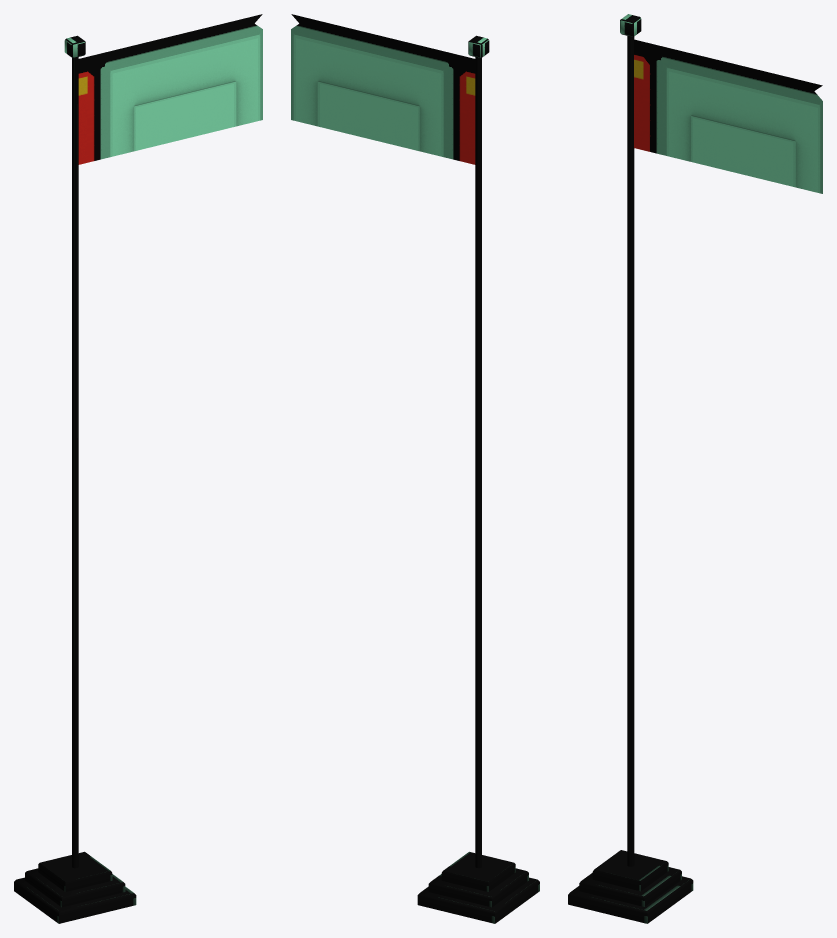
The model's file is Flag_EU.fbx.
3 views of the same model, side by side, from view 1: azimuth 30°, elevation 25°; view 2: azimuth 150°, elevation 25°; view 3: azimuth 330°, elevation 25° (orthographic). The views are drawn at different scales.
Visible parts, largest first — view 1: Flag_EU; view 2: Flag_EU; view 3: Flag_EU.
Boxes of the visible parts, bbox=[...] form: Flag_EU: bbox=[14, 14, 262, 923]; Flag_EU: bbox=[291, 14, 539, 923]; Flag_EU: bbox=[568, 14, 822, 923].
Bounding box in the file's own units: 195 × 707 × 66.85.
